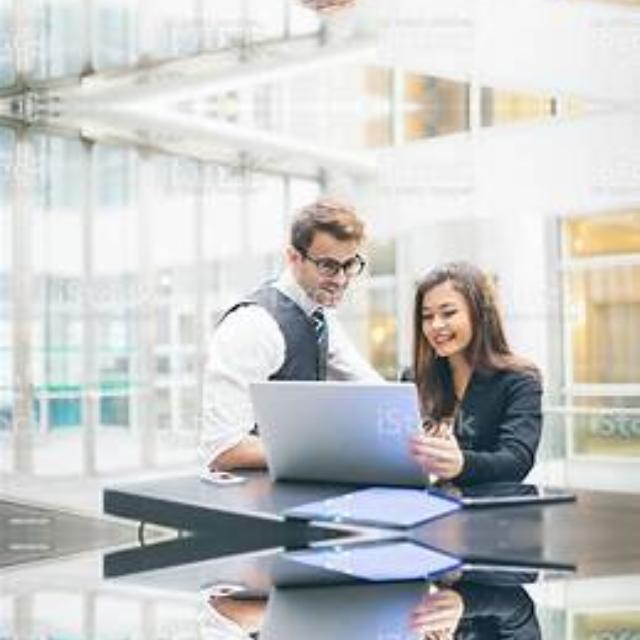person: (228, 204, 374, 456), (408, 253, 534, 482), (408, 584, 534, 640), (227, 611, 374, 640), (227, 0, 374, 7)
